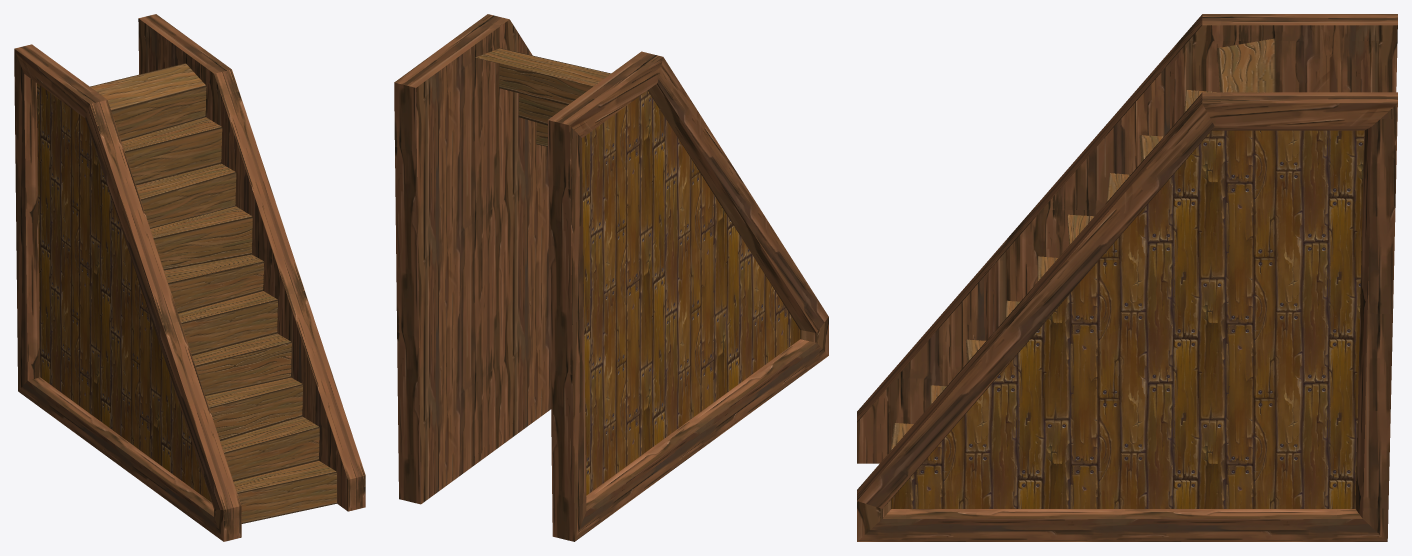
File: Stairs_2.fbx
3 views of the same model, side by side, from view 1: azimuth 30°, elevation 25°; view 2: azimuth 150°, elevation 25°; view 3: azimuth 270°, elevation 25° (orthographic). The views are drawn at different scales.
Parts seen in each view (by area): view 1: 1_Stairs_2; view 2: 1_Stairs_2; view 3: 1_Stairs_2.
Part boxes in pixels (bbox=[...]): 1_Stairs_2: bbox=[14, 14, 365, 541]; 1_Stairs_2: bbox=[394, 14, 828, 541]; 1_Stairs_2: bbox=[857, 14, 1397, 541].
Bounding box in the file's own units: 124 × 283 × 316.
